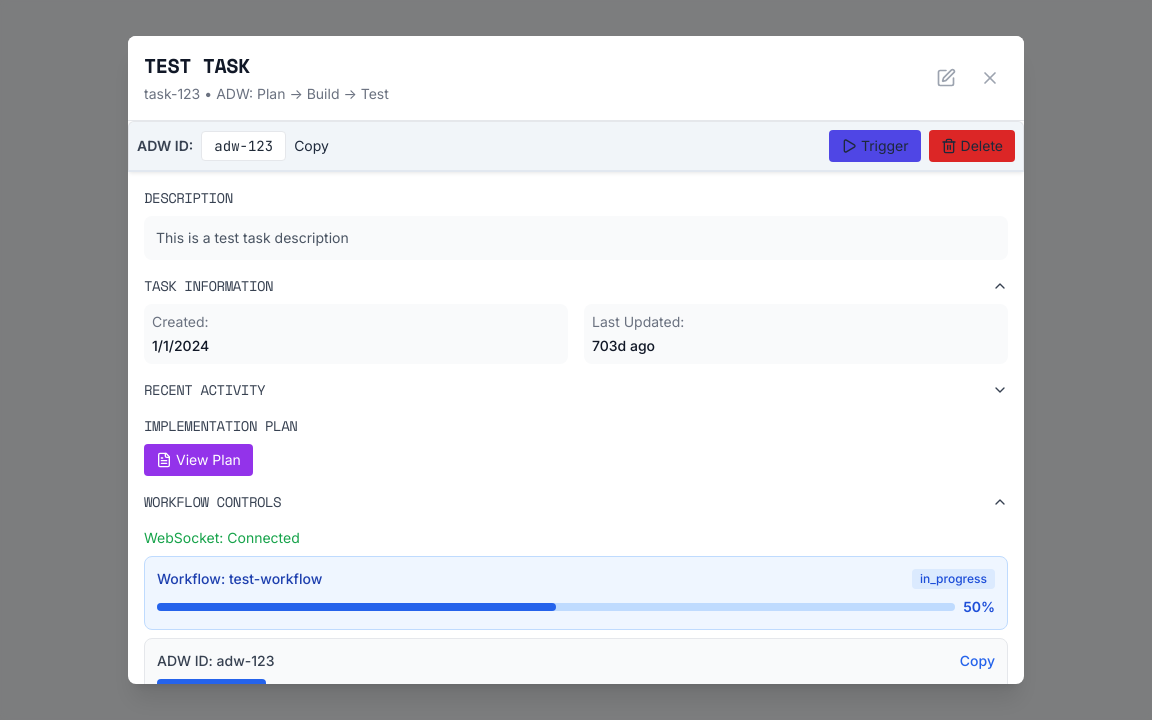
Test: TaskDetailsModal Component › Rendering › should display recent activity logs
Note: Click to expand recent activity
Click the button "Recent Activity": {"x": 205, "y": 390} [144,380,1008,400]
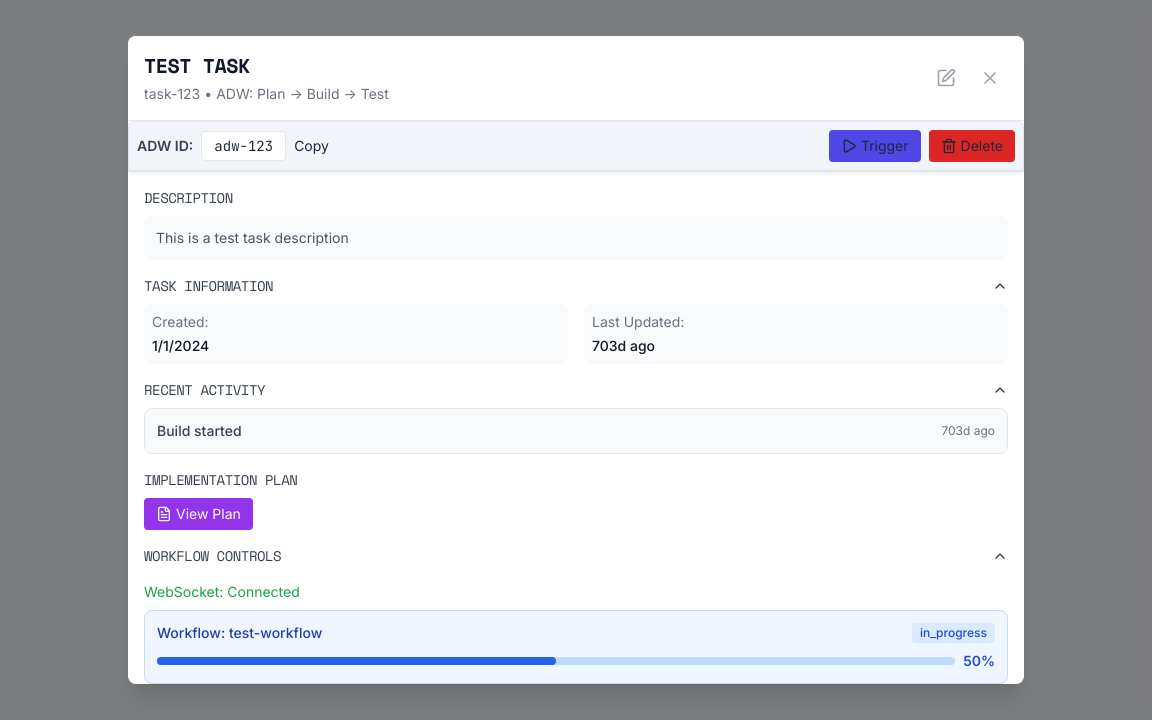
Now the text "Build started" is shown, box [157,421,242,441]
